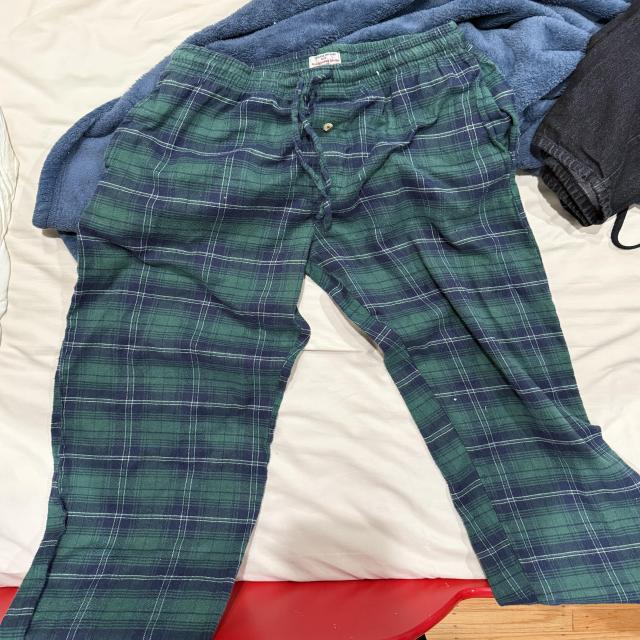back_tag: (296, 51, 357, 70)
